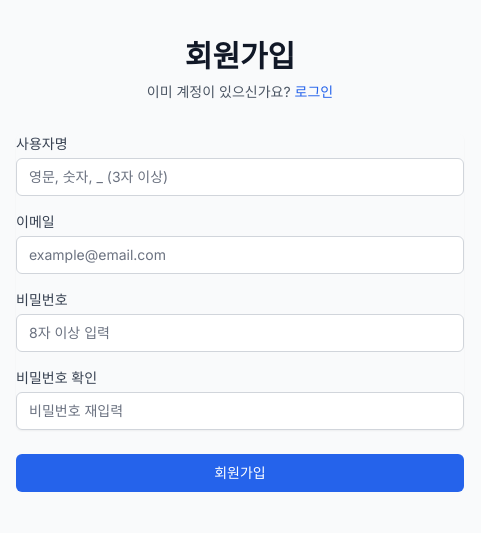
it: RegisterPage › 폼 검증 - 비밀번호 › 8자 미만 비밀번호로 제출 시 에러 메시지가 표시된다
In the field labelled "사용자명": (240, 177) [16, 158, 464, 196], type "testuser"
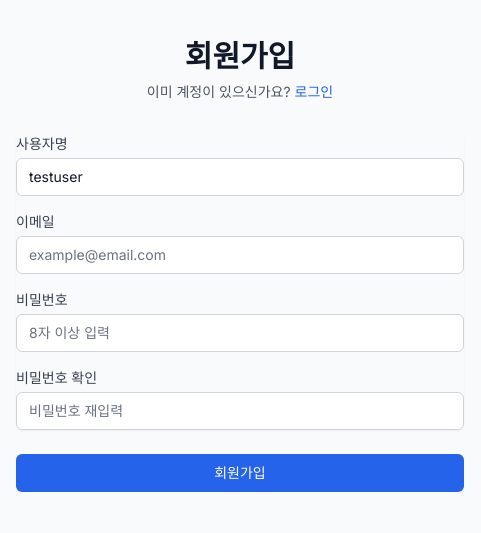
In the field labelled "이메일": (240, 255) [16, 236, 464, 274], type "test@example.com"
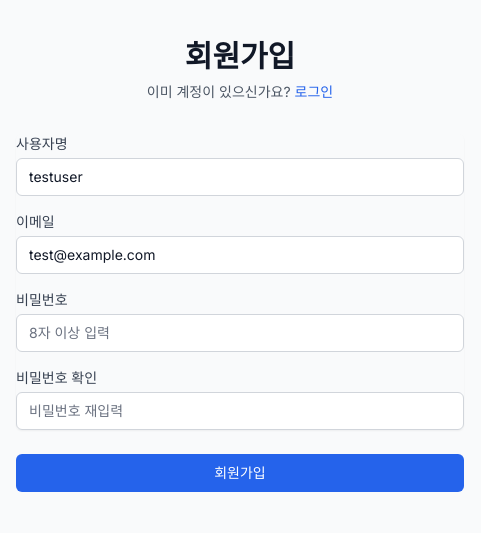
In the password field labelled "비밀번호": (240, 333) [16, 314, 464, 352], type "short"
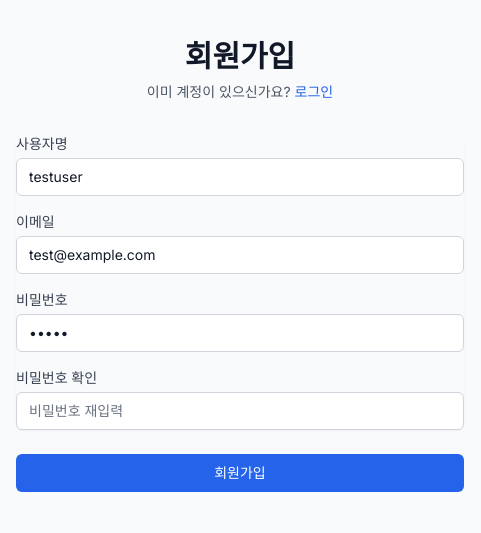
Click the button "회원가입": (240, 473) [16, 454, 464, 492]
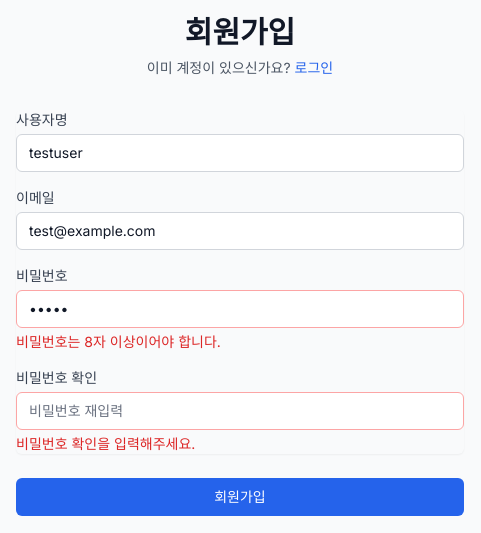
Expected: the text "비밀번호는 8자 이상이어야 합니다." is shown, [16, 333, 221, 350]
